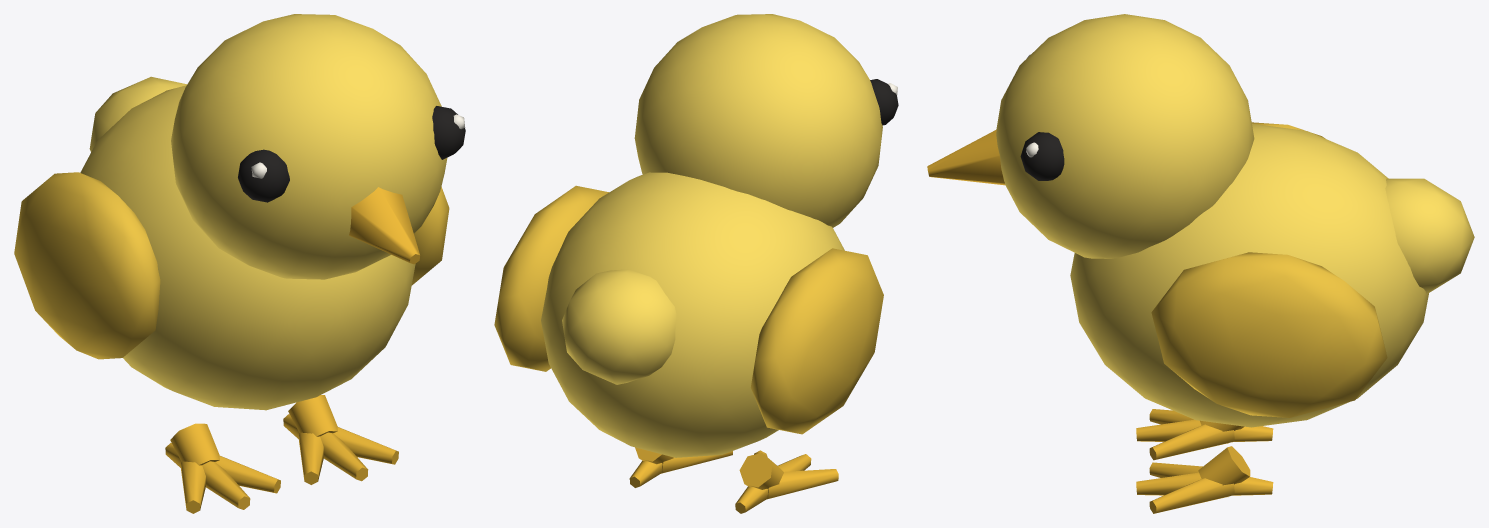
Rendered from chicken_chick.glb.
The picture shows the model from 3 angles, left to right: view 1: azimuth 30°, elevation 25°; view 2: azimuth 150°, elevation 25°; view 3: azimuth 270°, elevation 25°; orthographic projection. The views are drawn at different scales.
Parts seen in each view (by area): view 1: head, body, wing_r, leg_r, leg_l, wing_l; view 2: body, head, wing_r, wing_l, leg_r, leg_l; view 3: head, body, wing_l, leg_l, leg_r.
Boxes of the visible parts, x1,y1,x2,y2 form: head: [171, 14, 465, 279]; body: [80, 76, 415, 410]; wing_r: [14, 172, 160, 359]; leg_r: [165, 423, 280, 513]; leg_l: [283, 395, 398, 484]; wing_l: [411, 186, 449, 285]; body: [541, 172, 844, 457]; head: [634, 14, 898, 227]; wing_r: [750, 248, 883, 434]; wing_l: [494, 185, 608, 371]; leg_r: [735, 450, 838, 513]; leg_l: [629, 447, 732, 487]; head: [927, 14, 1254, 258]; body: [1070, 123, 1474, 427]; wing_l: [1151, 252, 1387, 417]; leg_l: [1136, 446, 1273, 513]; leg_r: [1136, 409, 1273, 460].
Bounding box in the file's own units: 0.1286 × 0.1622 × 0.1814.
